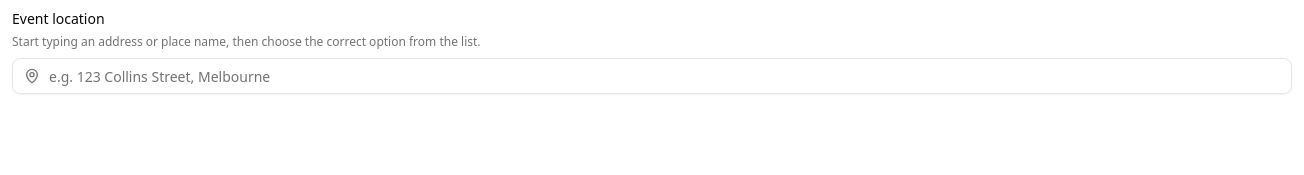
MapboxPlaceAutocomplete › selects a suggestion and emits onResolved with canonical place
Later steps or results of the test are not shown.
Type "Mel" into the dropdown at (652, 76), box [12, 58, 1292, 94]
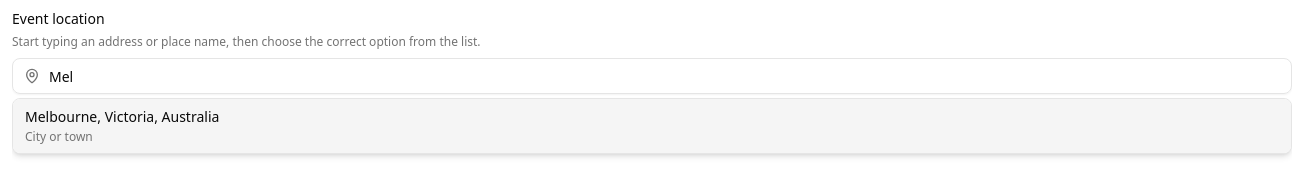
expect the button "Melbourne, Victoria, Australia City or town" is shown: met, box [13, 99, 1291, 153]
